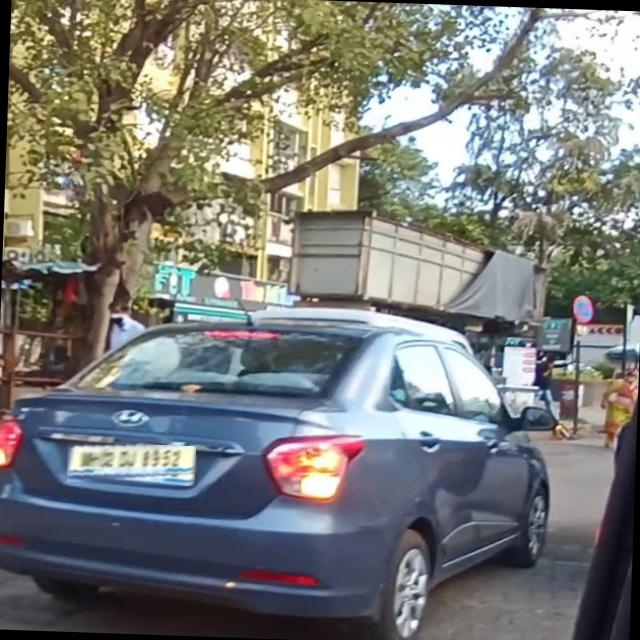Plate: (68, 443, 197, 487)
